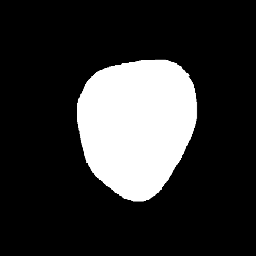mass: (78, 58, 195, 200)
